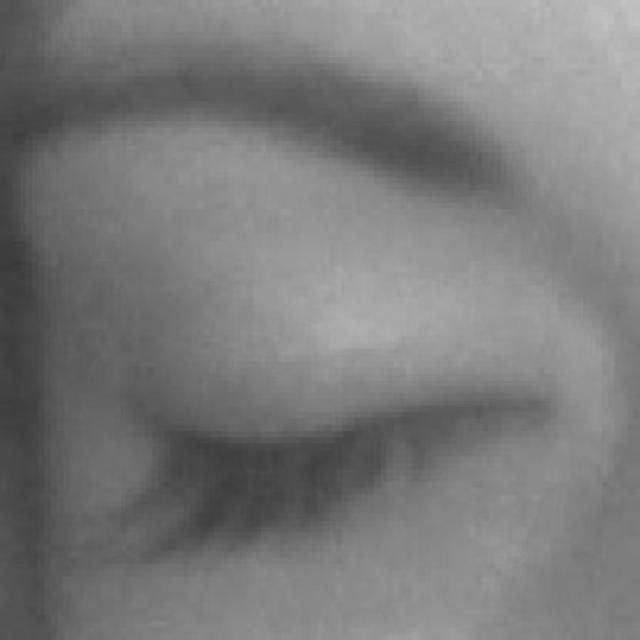drowsy: (107, 228, 551, 634)
